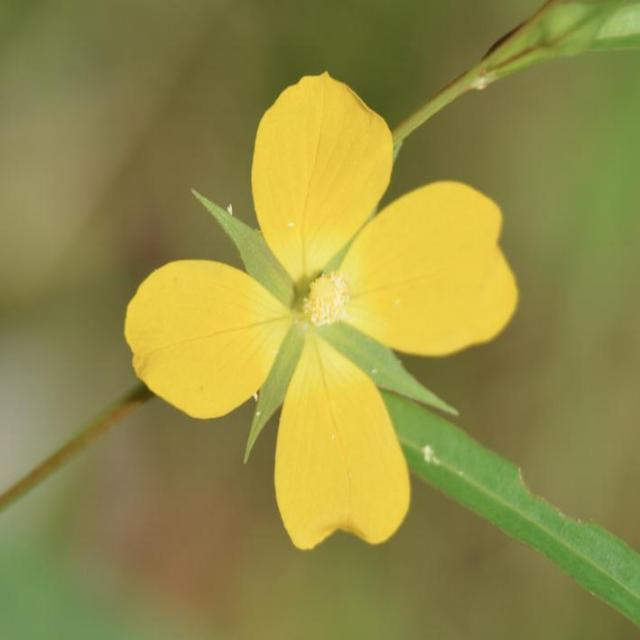organic waste: (115, 56, 519, 566)
